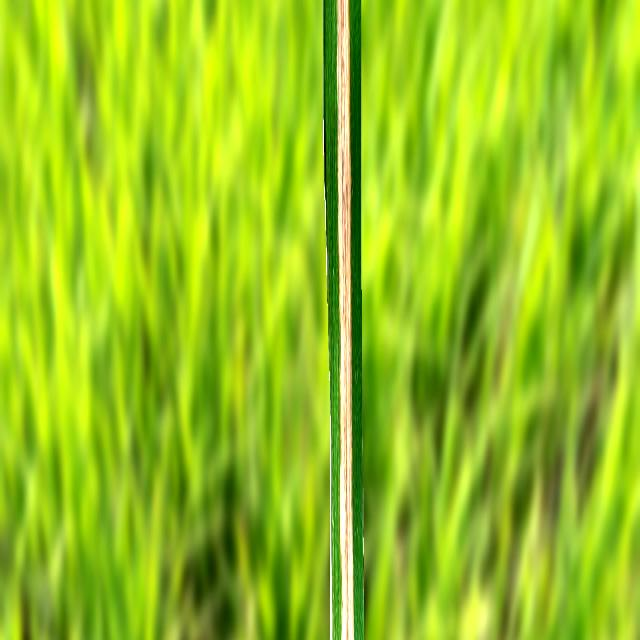BLB: (336, 0, 354, 640)
